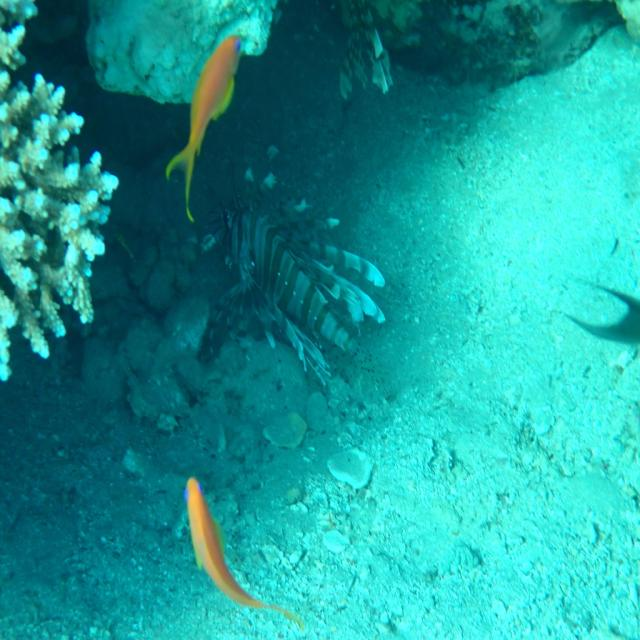Aslan Baligi: (198, 187, 390, 399)
